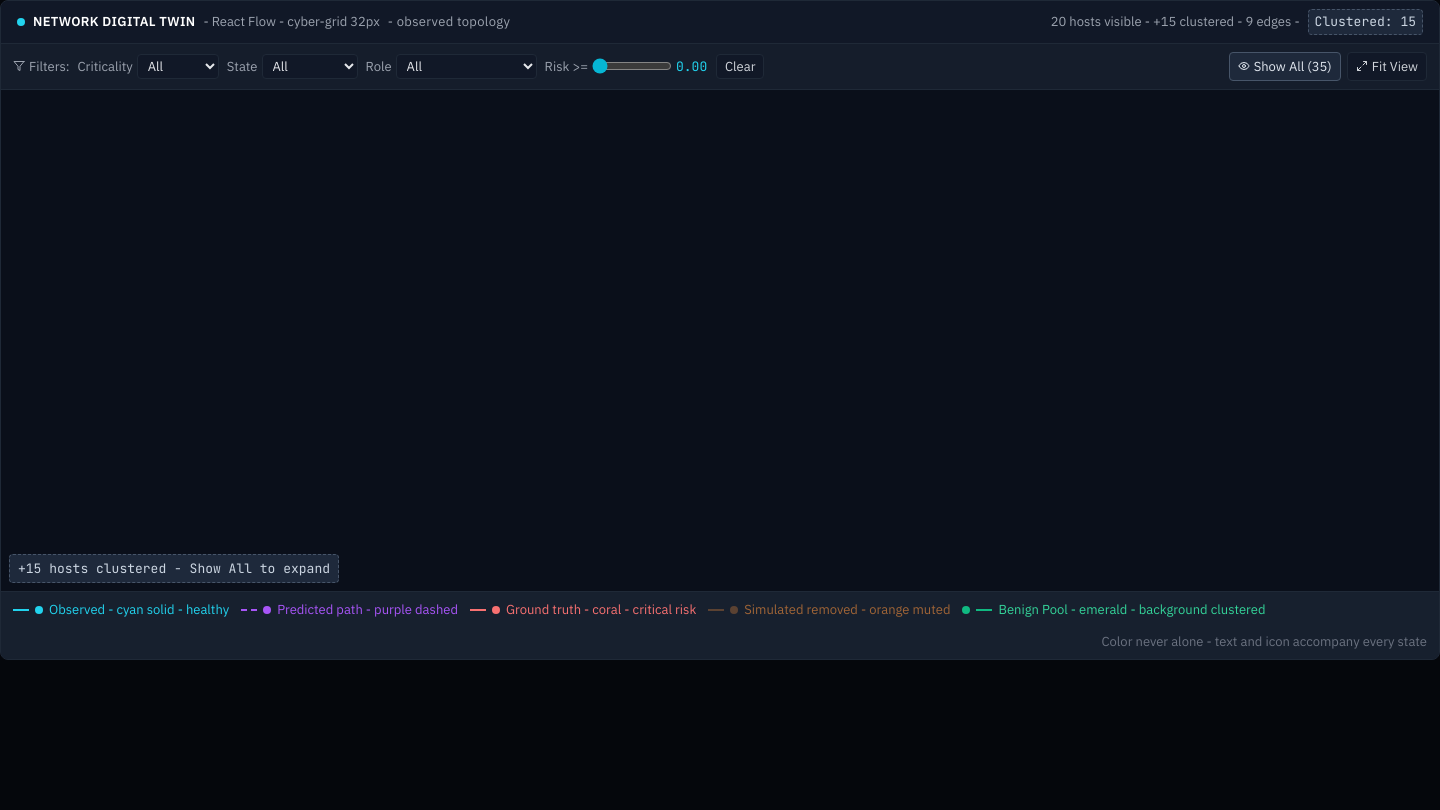
Test: Topology - Phase 12 - 15-25 hosts default, clustering › Show All expands to show all hosts and toggles to Show Less
This screenshot has width=1440, height=810.
Expected: the text with test id "topology-count" shows "20 hosts visible", 1051,12 -> 1300,32
Click the button with test id "show-all-btn" at (1285, 66), box 1229,52 -> 1341,81
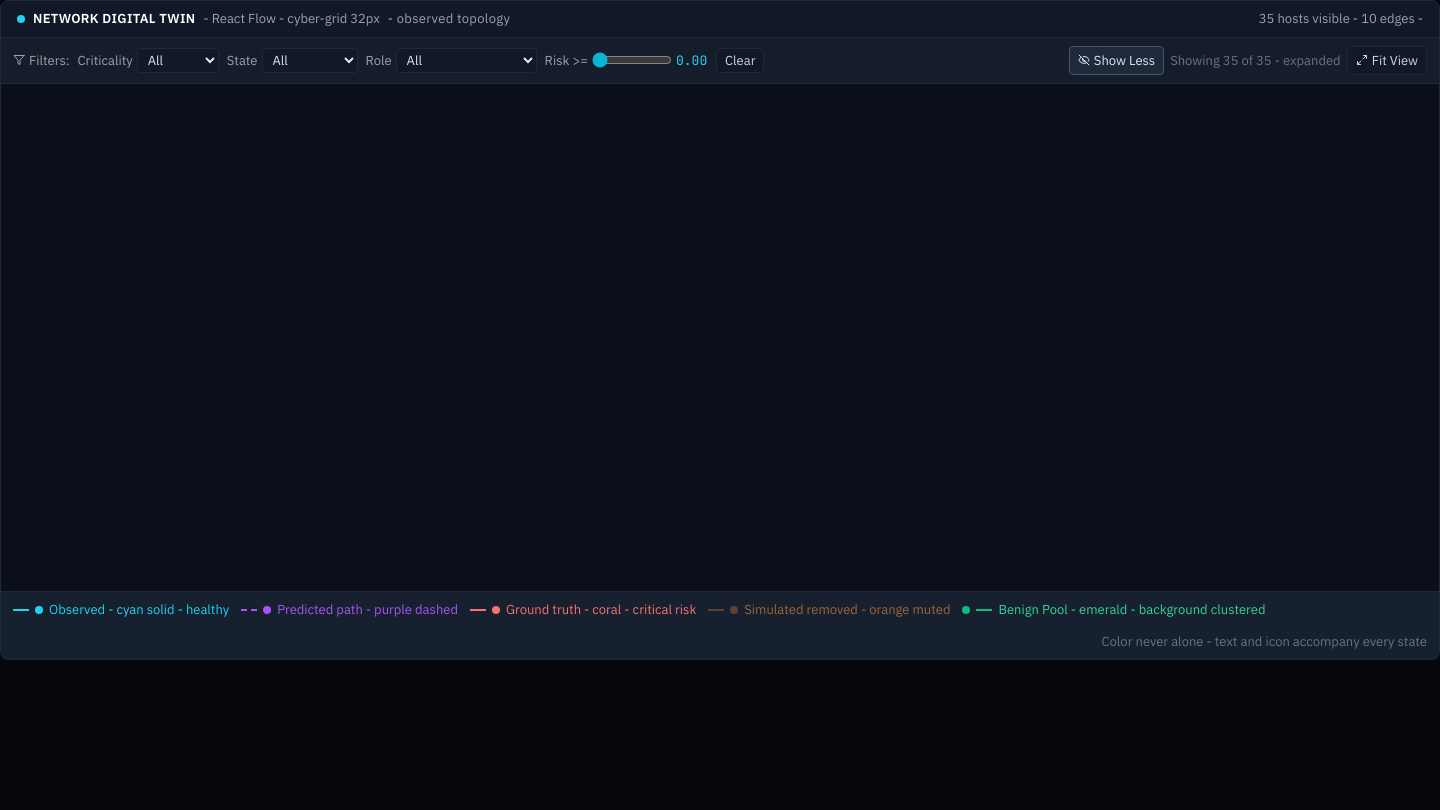
Expected: the text with test id "topology-count" shows "35 hosts visible", 1259,9 -> 1423,28
Expected: the text with test id "cluster-node" is gone
Expected: the text with test id "cluster-count-badge" is gone
Note: clicking again collapses
Click the button with test id "show-all-btn" at (1116, 60), box 1069,46 -> 1164,75
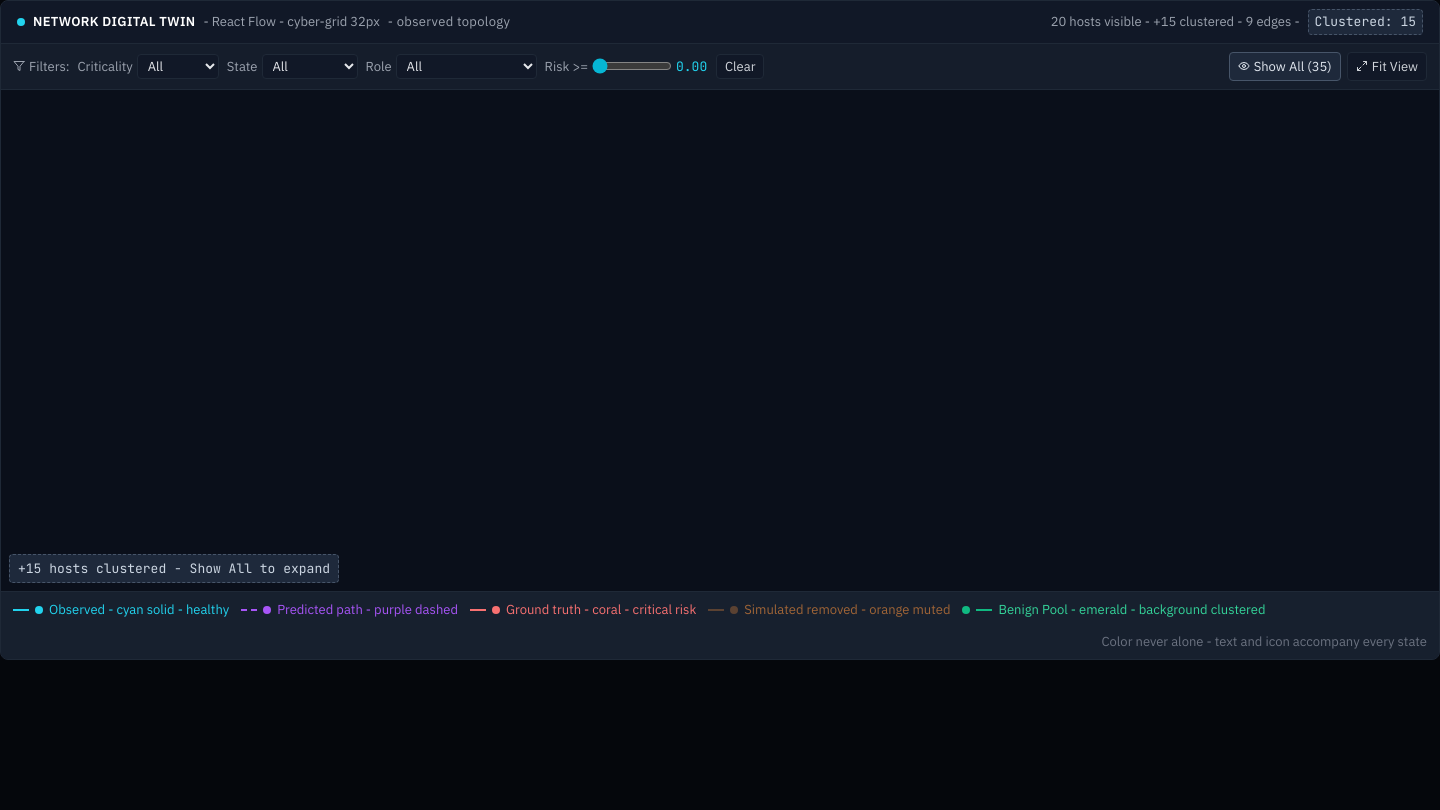
Expected: the text with test id "topology-count" shows "20 hosts visible", 1051,12 -> 1300,32
Expected: the text "+15 hosts clustered - Show All to expand" is shown, 9,554 -> 339,583
